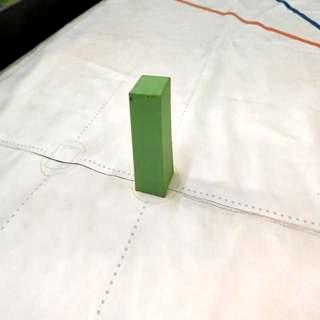greenbox: (128, 72, 175, 196)
